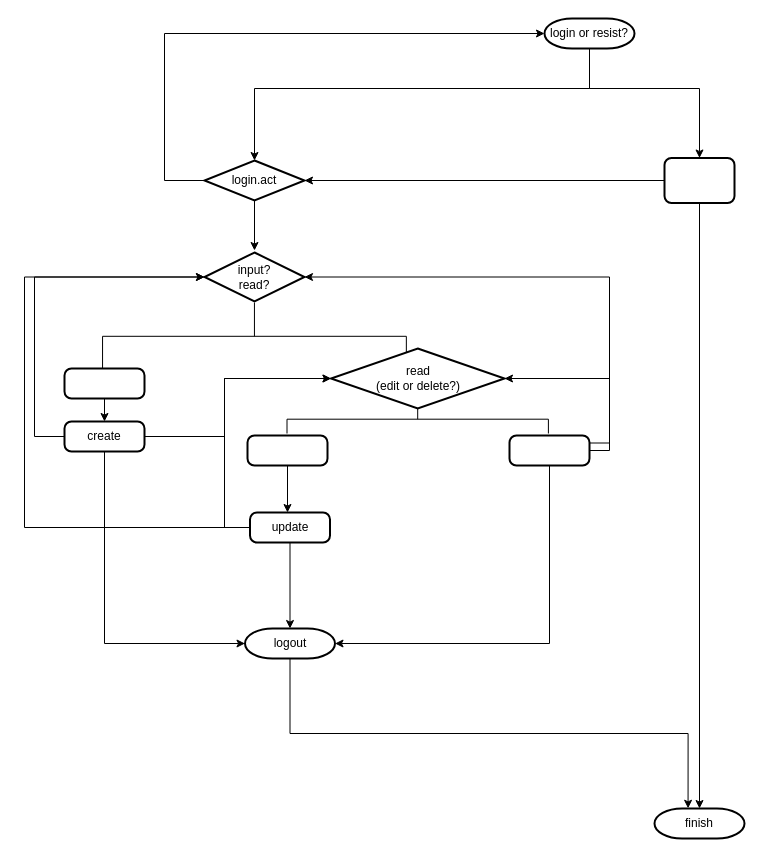
Image size: 763x856. Some labels were removed from this diagram. The centre of each missing label's shape, as x and y in pixels:
"delete" goes at point (549, 450).
"edit" goes at point (287, 450).
"input" goes at point (104, 383).
"resist" goes at point (699, 180).
